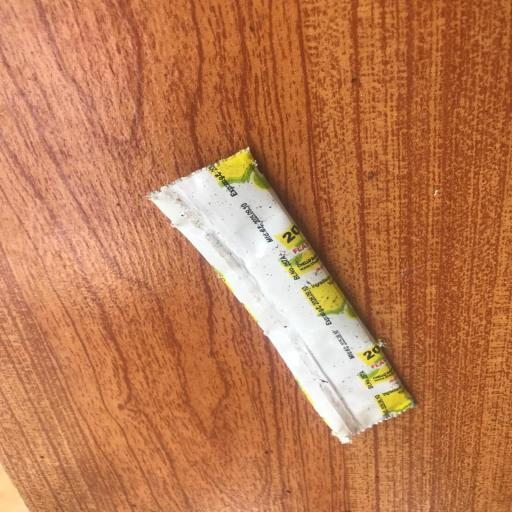waste: (128, 142, 420, 441)
